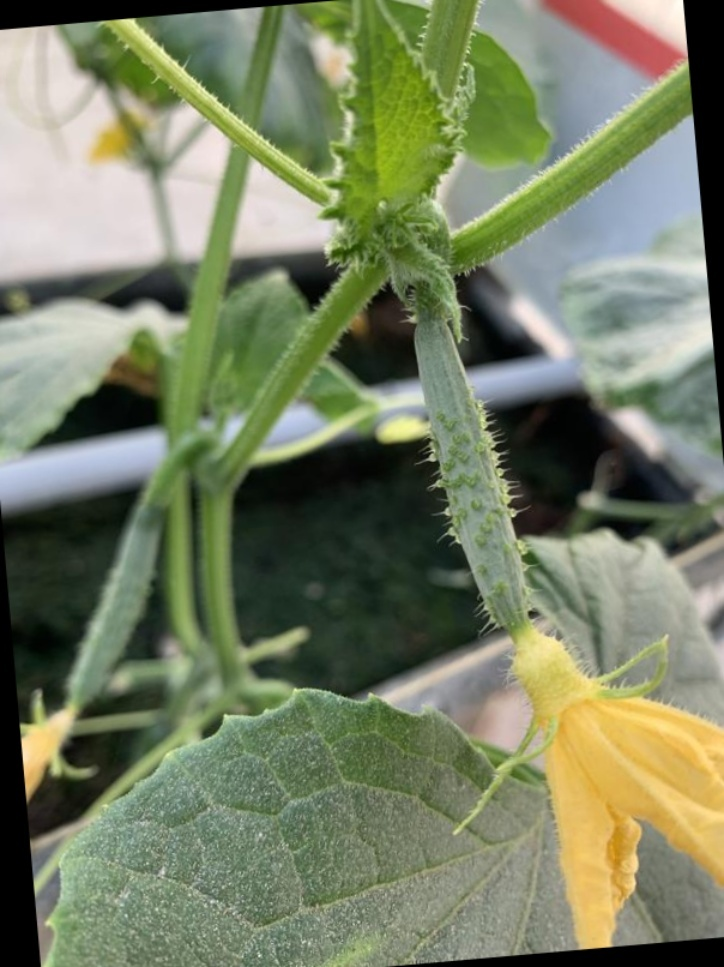bear: (365, 268, 724, 929)
